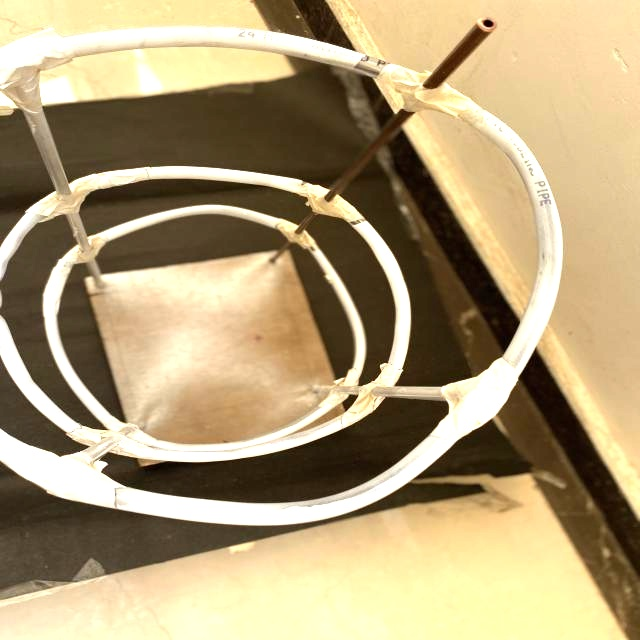silo: (0, 11, 568, 516)
